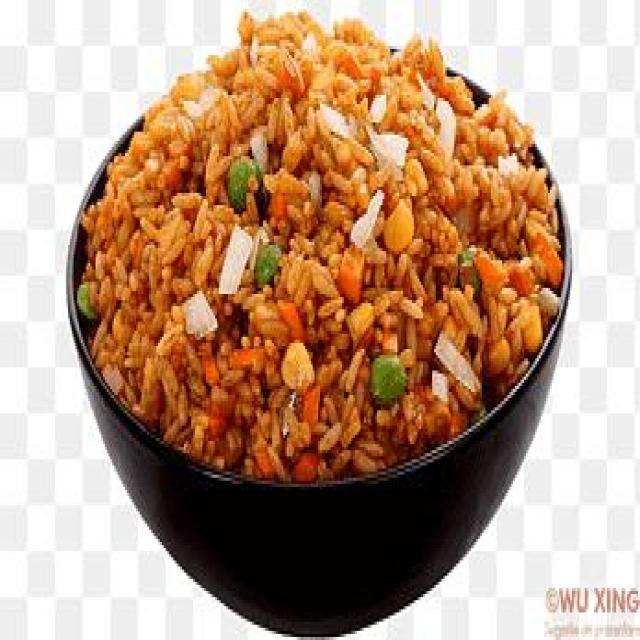Nasi Goreng: (73, 6, 564, 484)
